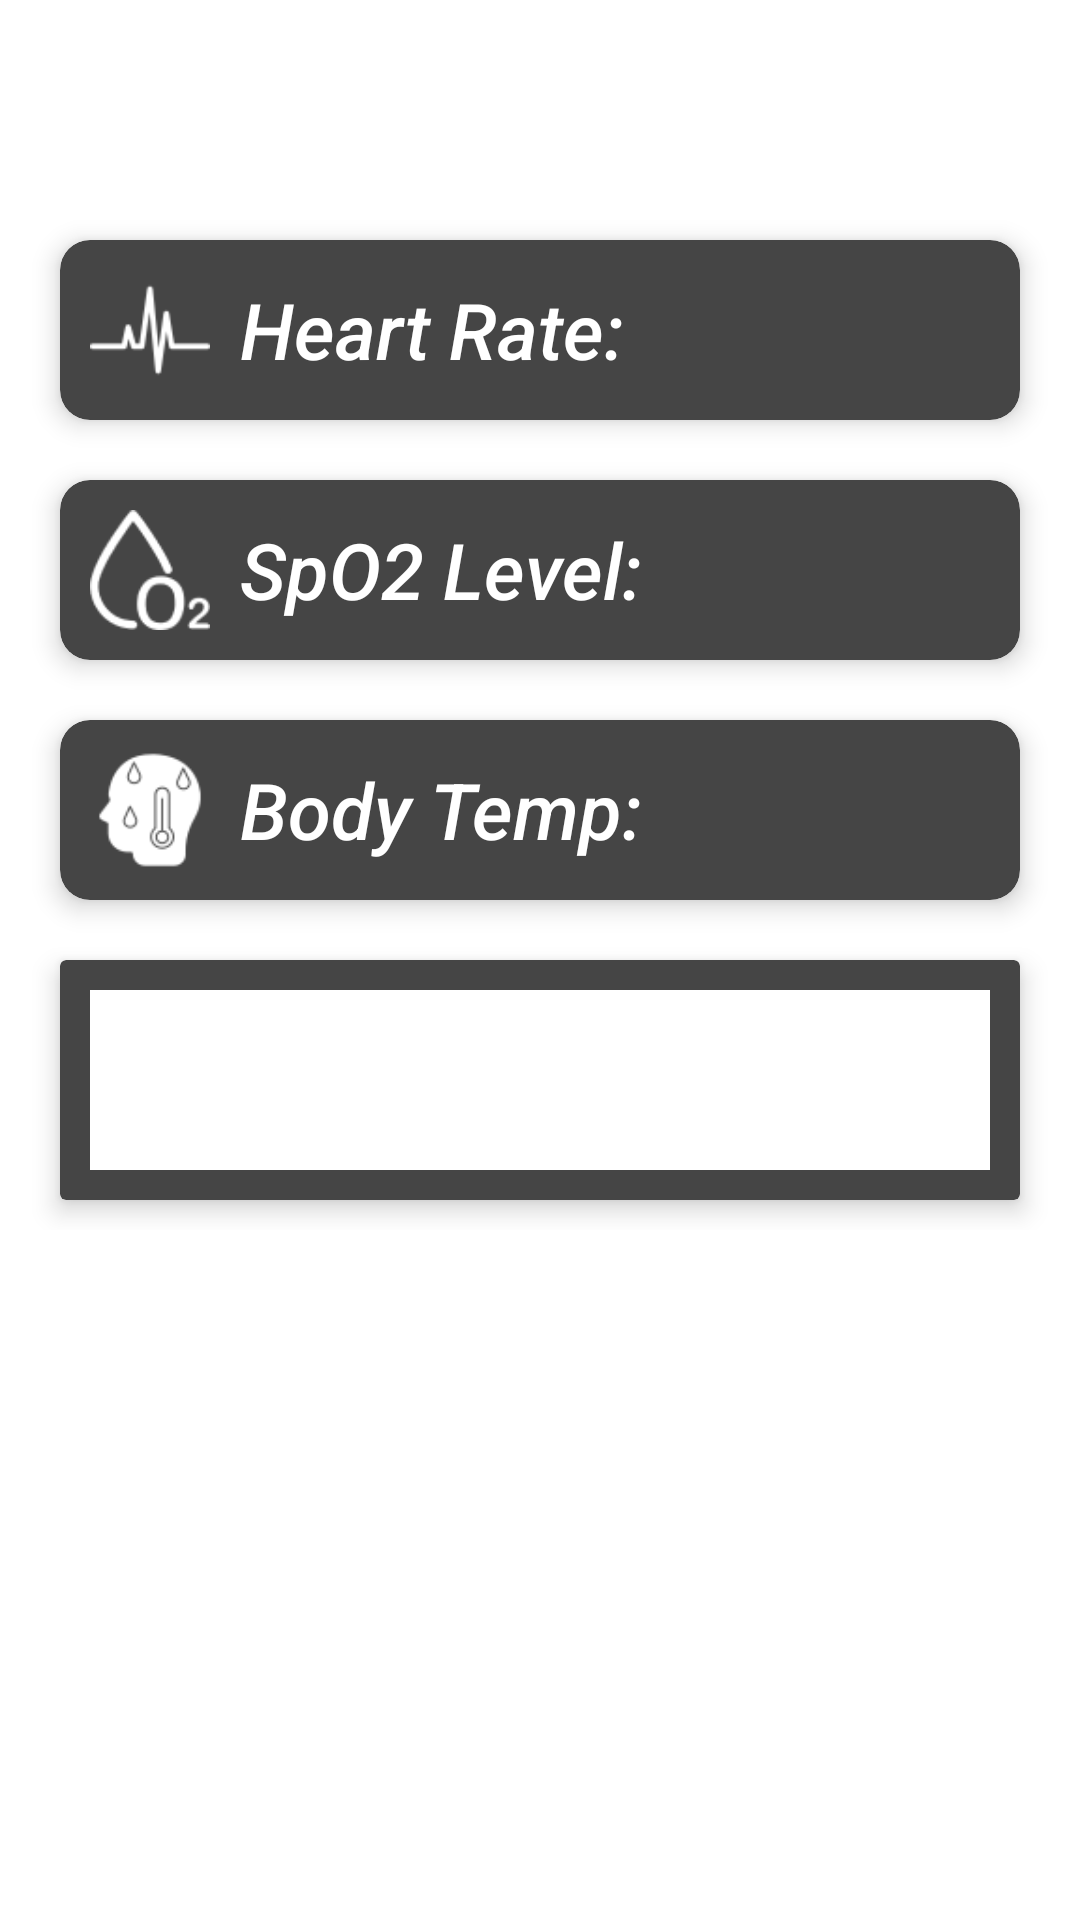

Named icons in this screenshot (1080 × 1920) and their centers, (x,y):
oxygen: (150,570)
temperature: (150,810)
